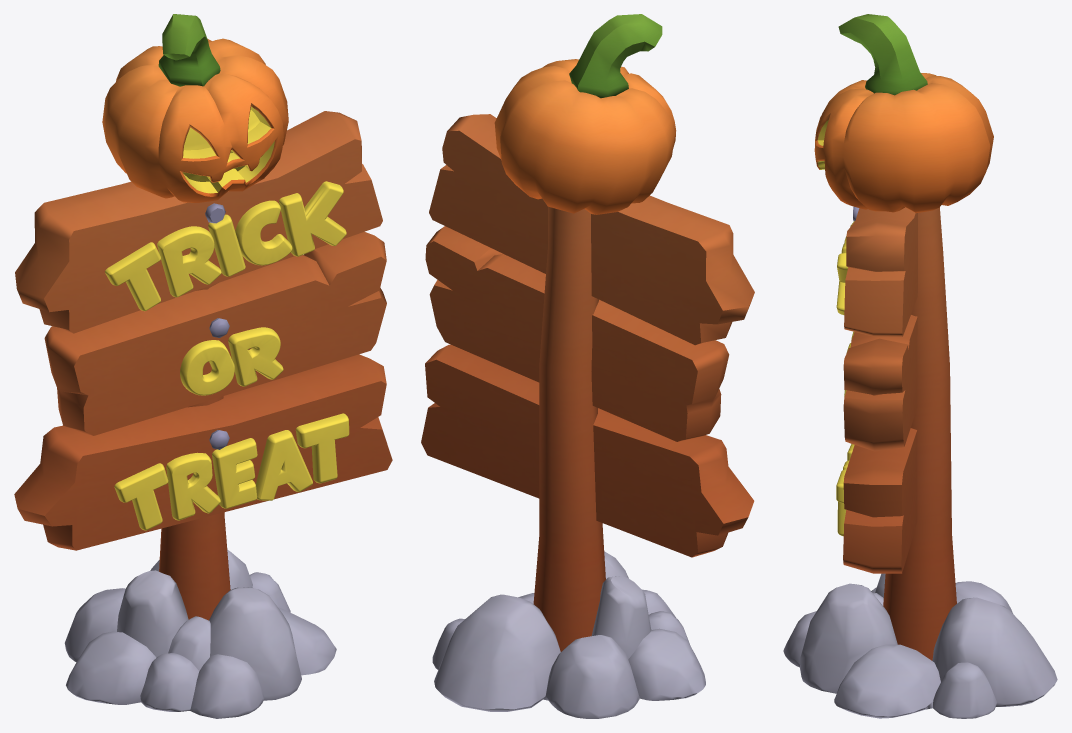
Rendered from WBA_Sign_Halloween_01.fbx.
3 views of the same model, side by side, from view 1: azimuth 30°, elevation 25°; view 2: azimuth 150°, elevation 25°; view 3: azimuth 270°, elevation 25° (orthographic). The views are drawn at different scales.
Visible parts, largest first — view 1: WBA_Sign_Halloween_01; view 2: WBA_Sign_Halloween_01; view 3: WBA_Sign_Halloween_01.
Part boxes in pixels (box(x1,y1,x2,y2)): WBA_Sign_Halloween_01: box(14, 14, 392, 718); WBA_Sign_Halloween_01: box(421, 14, 754, 718); WBA_Sign_Halloween_01: box(783, 14, 1057, 718).
Size of the model in its own units: 54.63 by 99.95 by 39.31.
